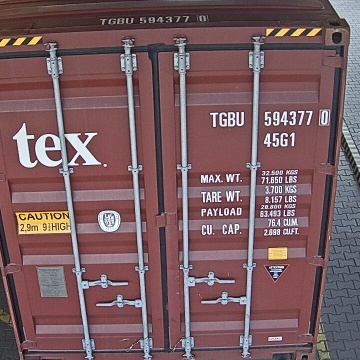serial_id: (210, 109, 329, 126)
